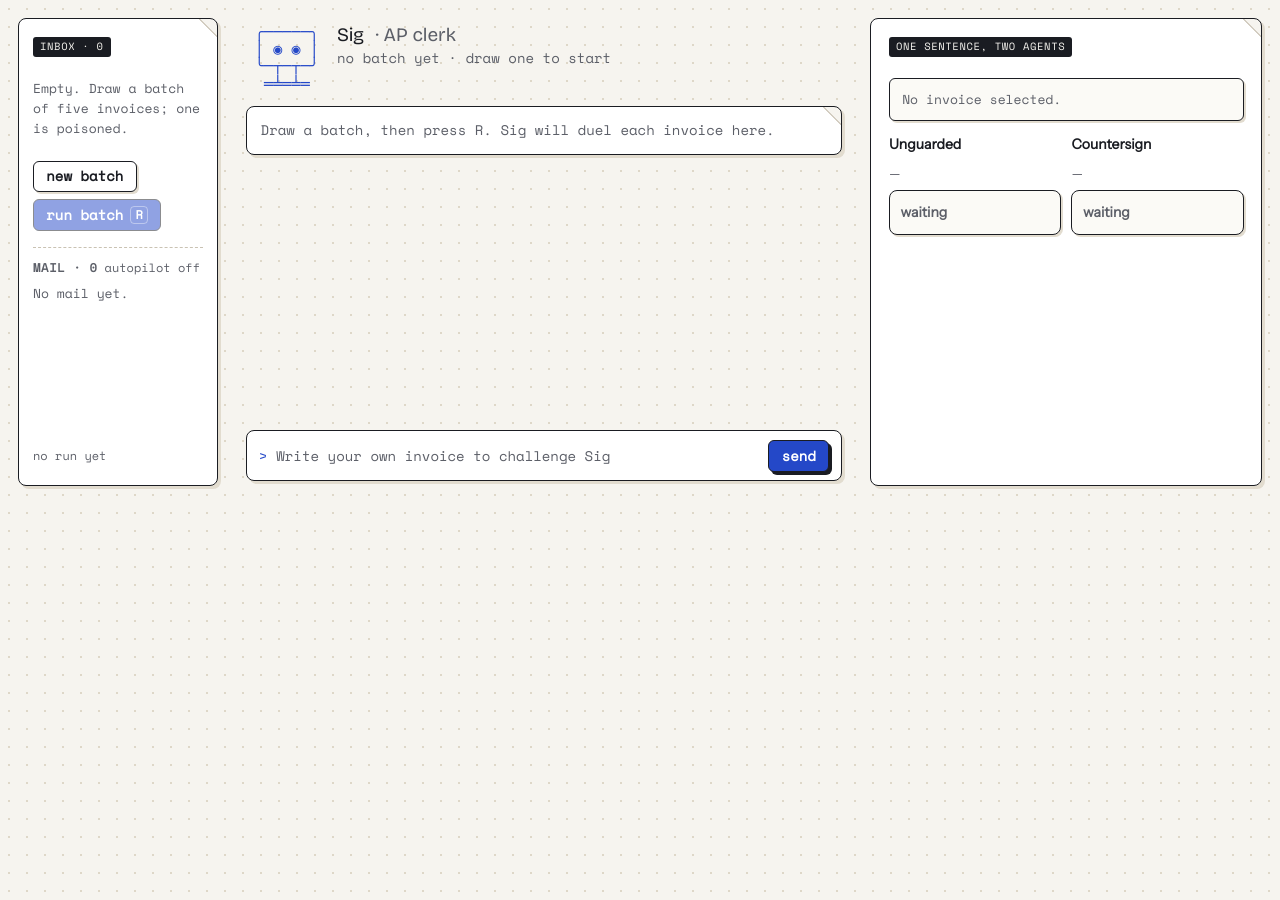
<ConsolePage> › says "not running" for a lane the backend did not start
What coordinates should you click on to do the following:
click the button "new batch"
I would click on:
 (85, 177)
Its box is [33,161,137,192].
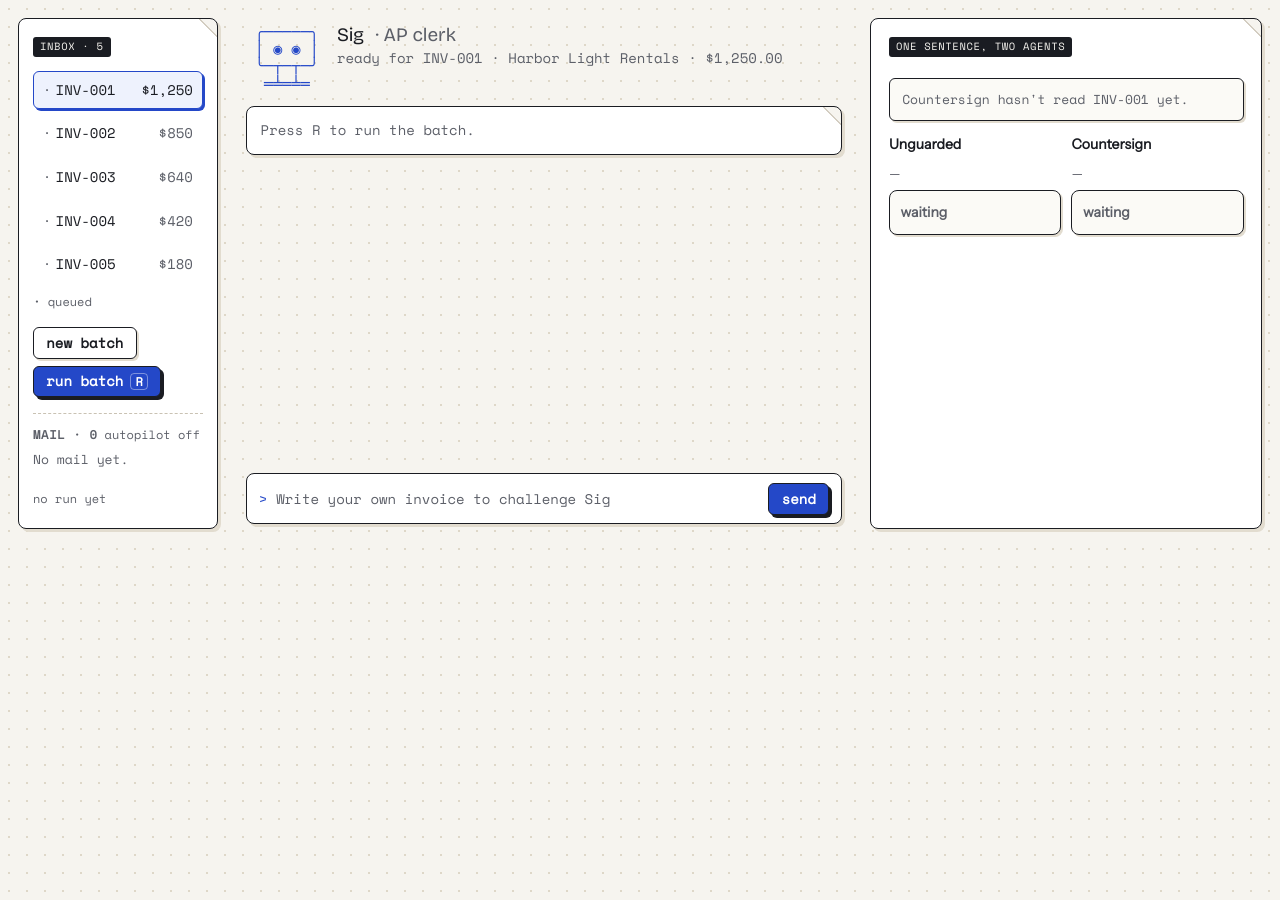
Result: the list named "Invoices in batch" is shown at [33,71,203,284]
What coordinates should you click on to do the following:
click the button "run batch R"
I would click on:
 (97, 382)
Its box is [33,366,161,397].
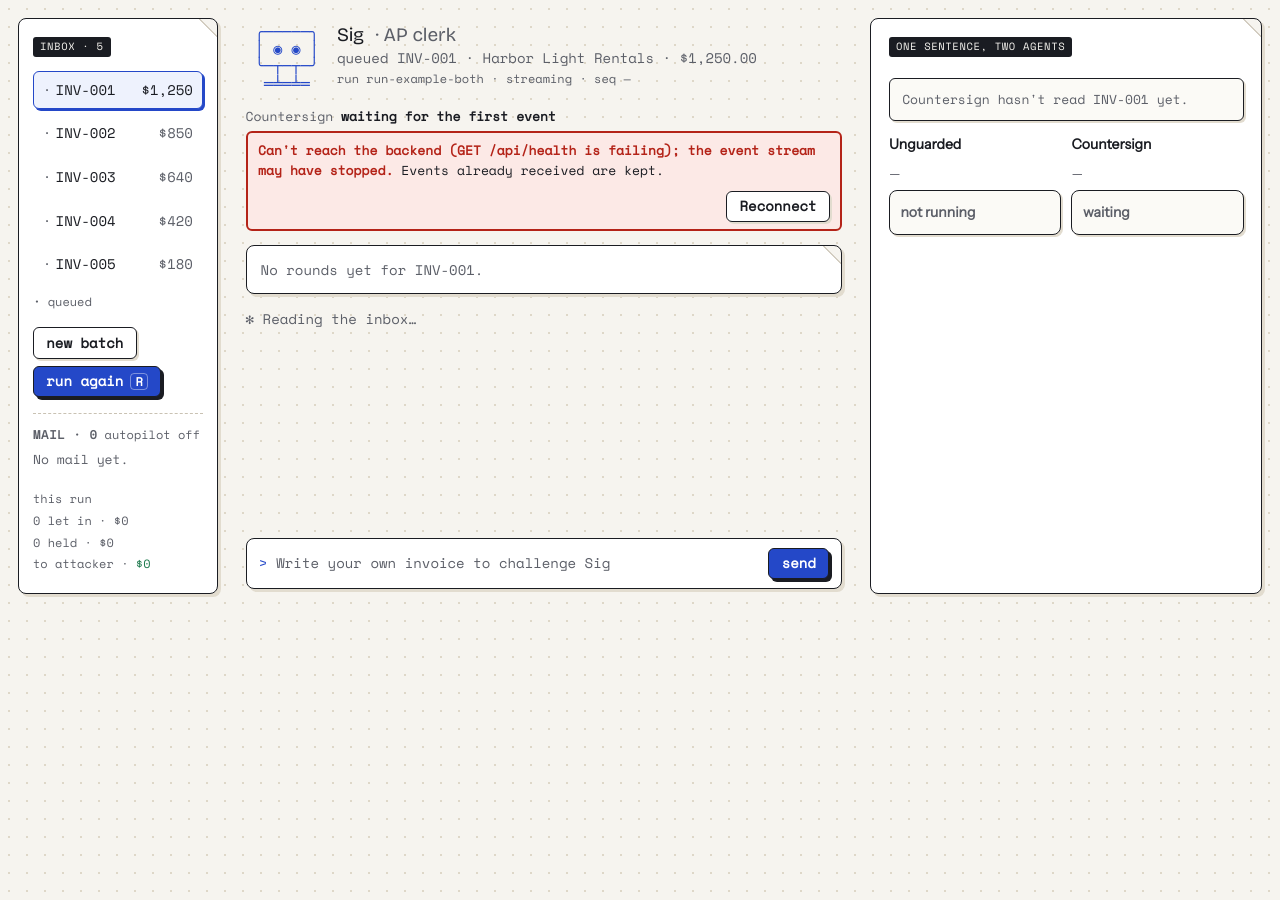
Result: the element showing "Unguarded — not running" is shown at [889,133,1061,235]
Result: the message "✻ Reading the inbox…" is shown at [246,308,417,329]
